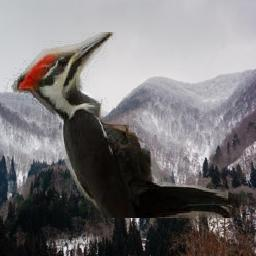Woodpecker: (3, 32, 241, 218)
